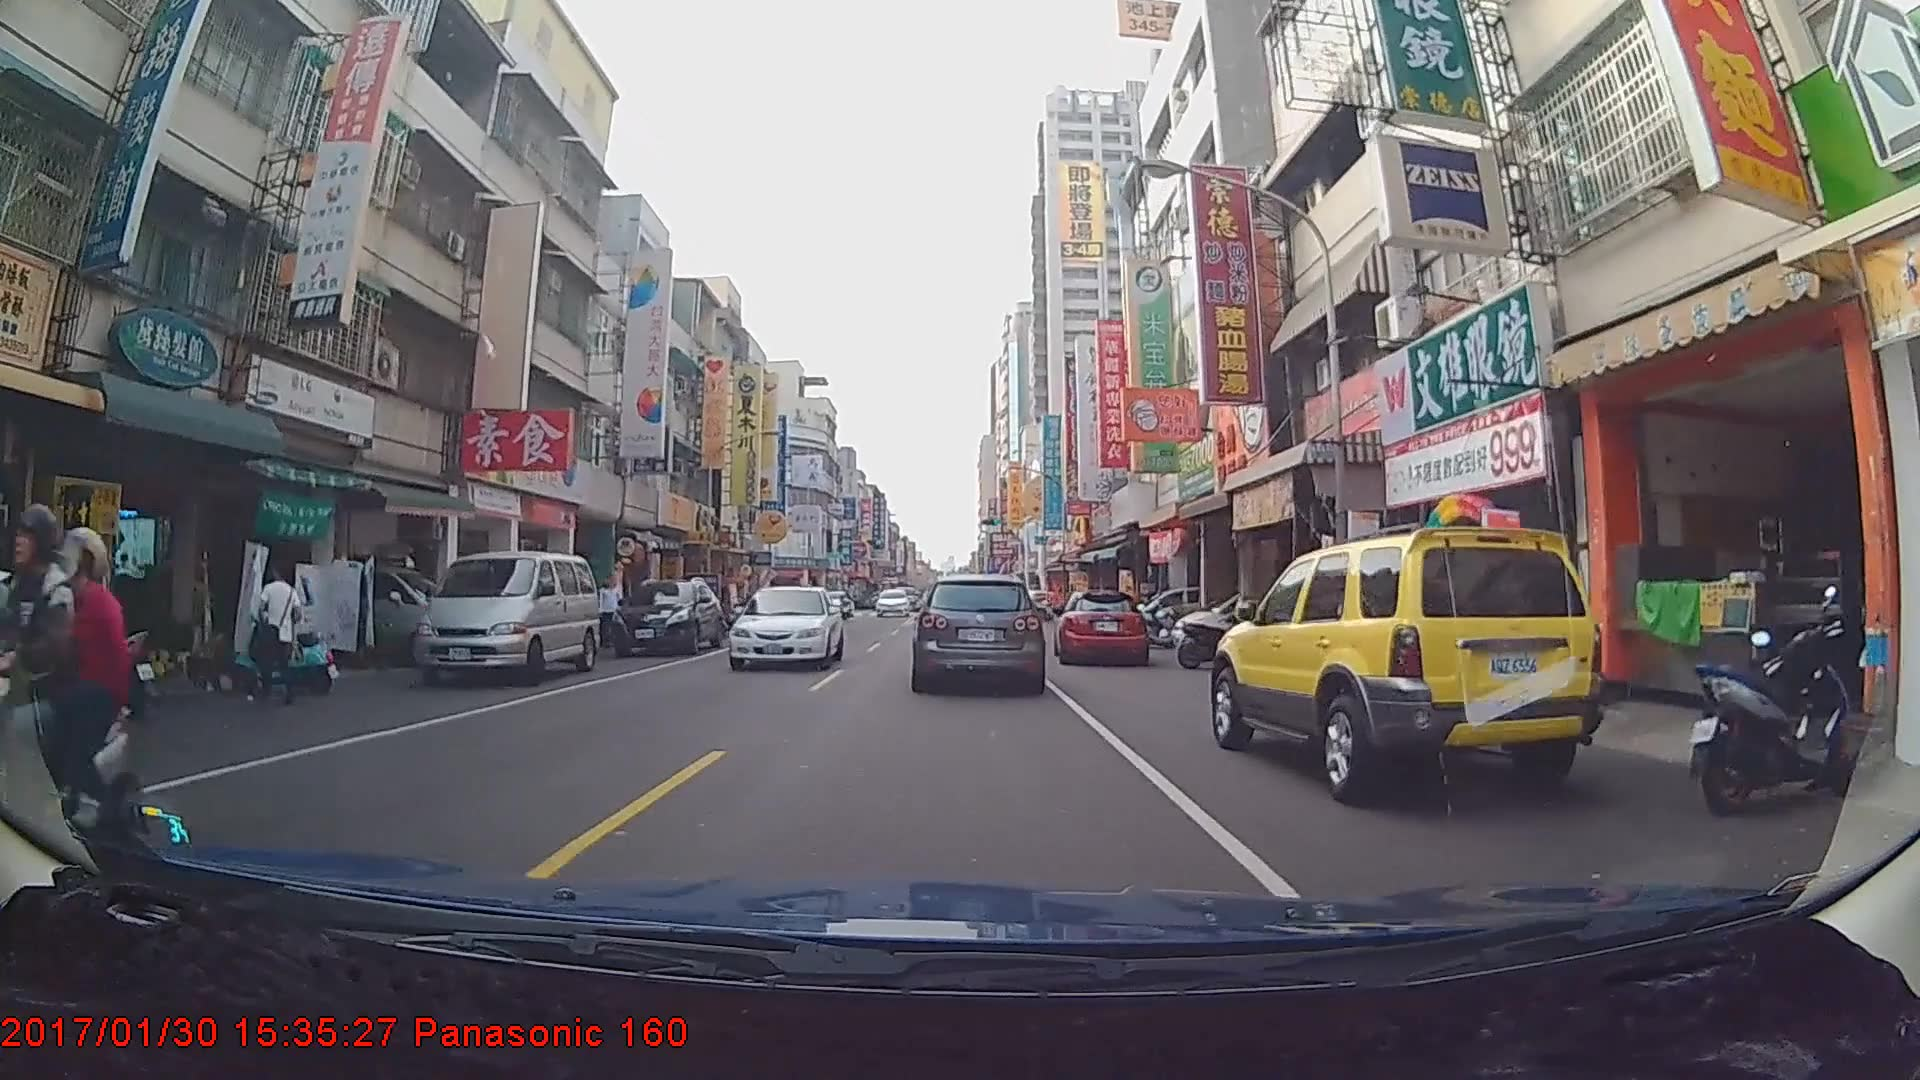pedestrian: (249, 559, 306, 702), (597, 576, 623, 647)
rider: (1, 506, 156, 890)
vehicle: (1207, 518, 1598, 799), (411, 549, 599, 683), (914, 573, 1045, 691), (730, 586, 843, 672), (610, 578, 721, 655), (1053, 587, 1149, 662), (875, 588, 910, 618)
